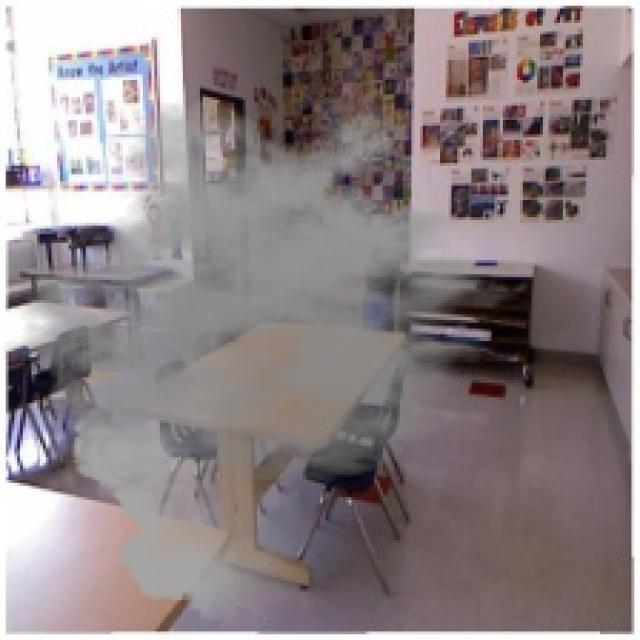smoke: (3, 97, 543, 629)
